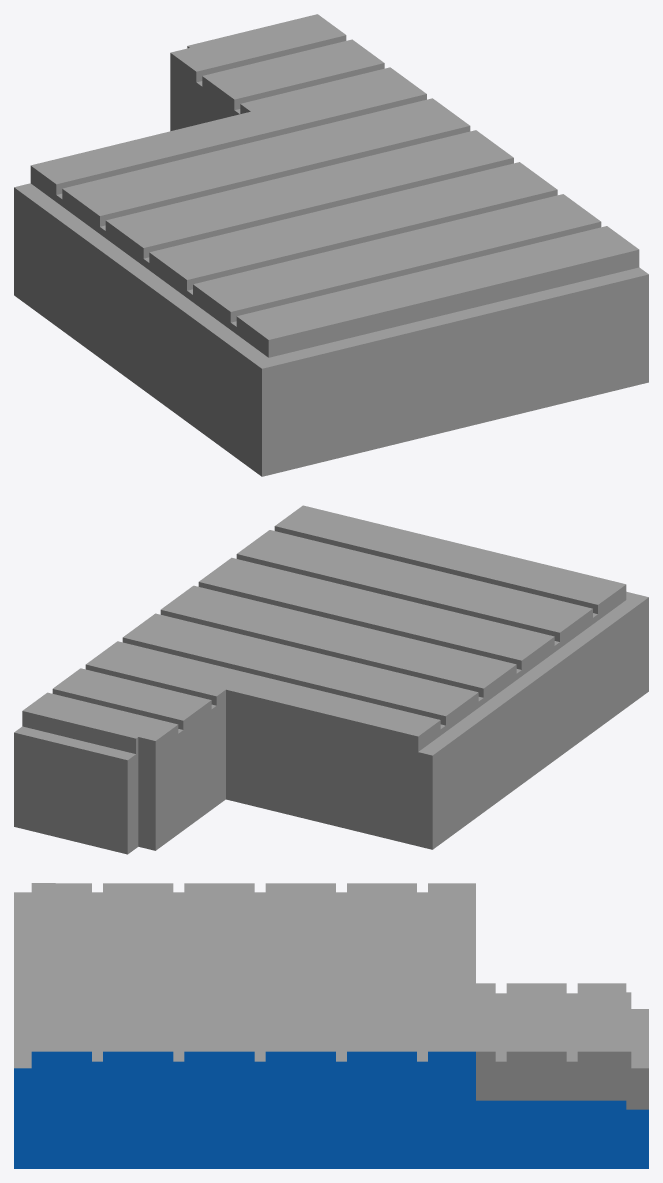
The model's file is SM_room_production_2.fbx.
3 views of the same model, one above another, from view 1: azimuth 30°, elevation 25°; view 2: azimuth 150°, elevation 25°; view 3: azimuth 270°, elevation 25° (orthographic). The views are drawn at different scales.
Visible parts, largest first — view 1: UCX_room_production_2; view 2: UCX_room_production_2; view 3: UCX_room_production_2.
Boxes of the visible parts, x1,y1,x2,y2 form: UCX_room_production_2: (14,14,648,476); UCX_room_production_2: (14,505,648,854); UCX_room_production_2: (14,883,648,1168).
Bounding box in the file's own units: 10.74 × 3.34 × 16.38.
